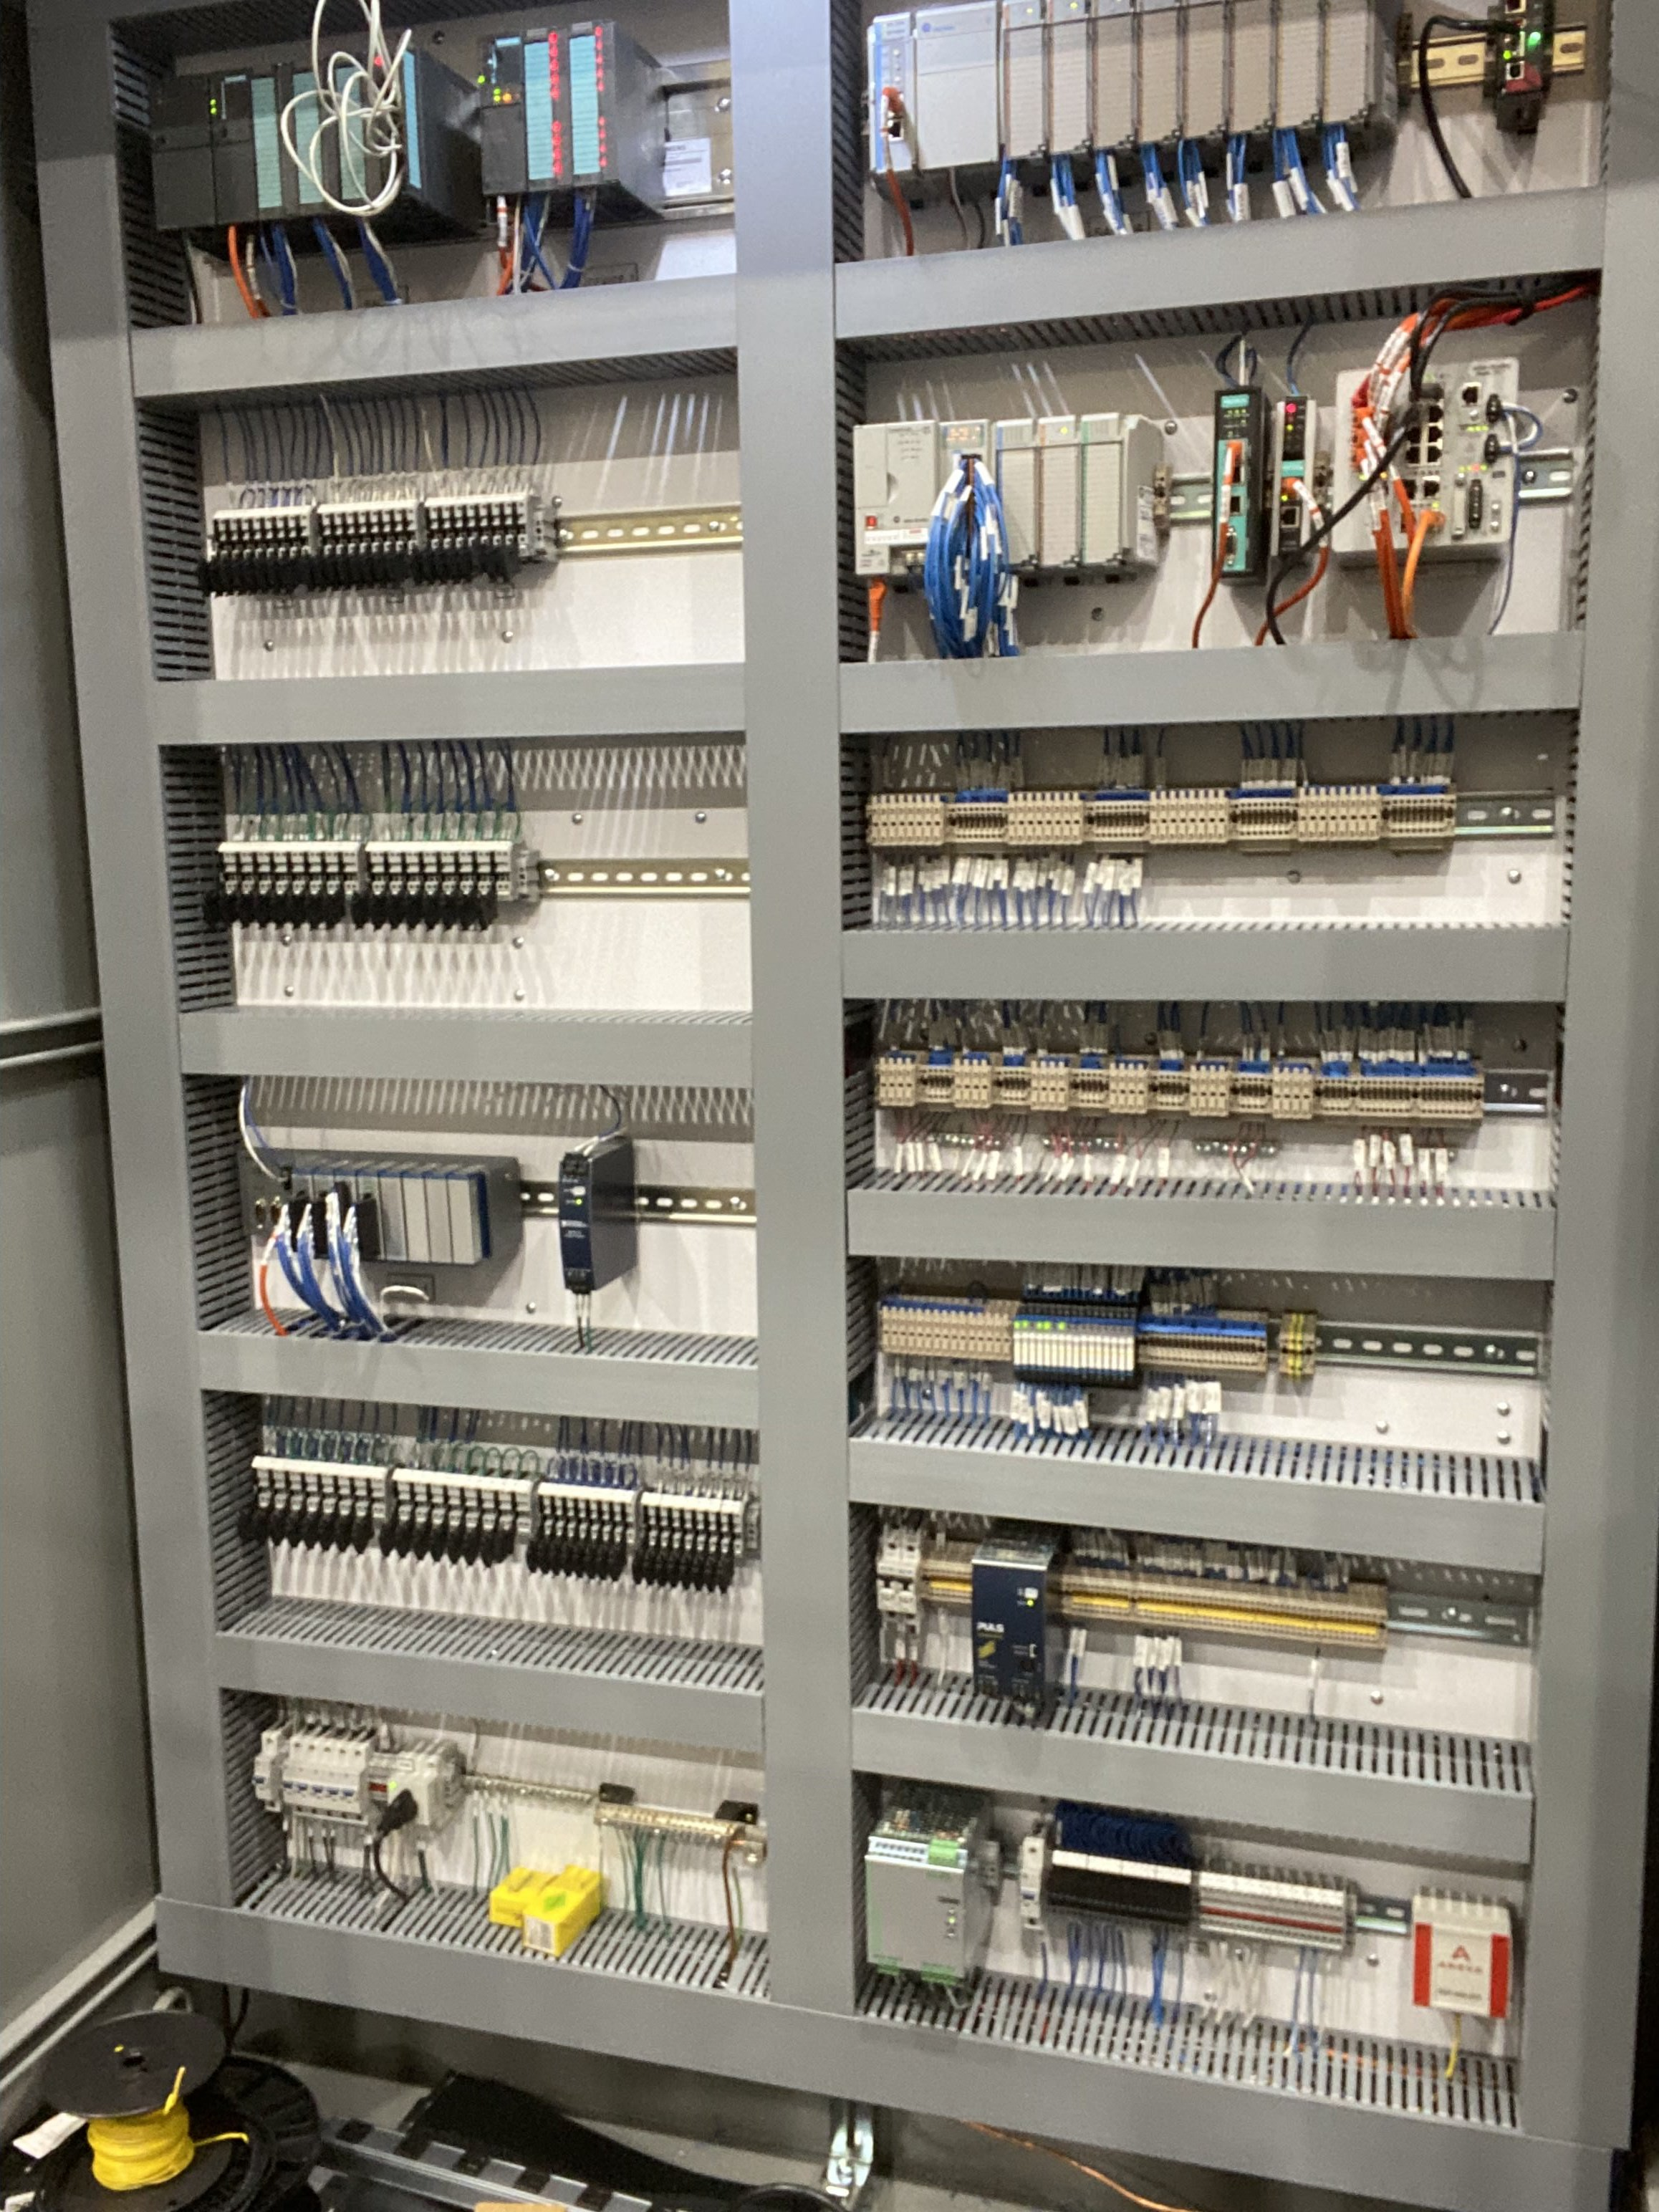AllenBradley: (852, 421, 946, 582)
Siemens: (209, 70, 260, 225)
